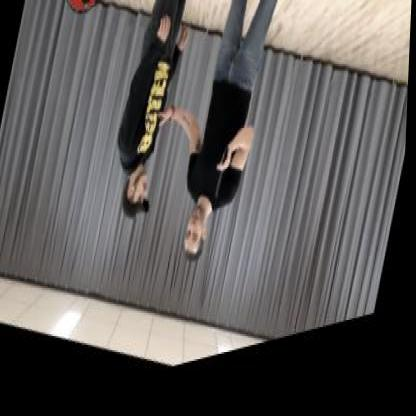knife: (212, 155, 233, 213)
